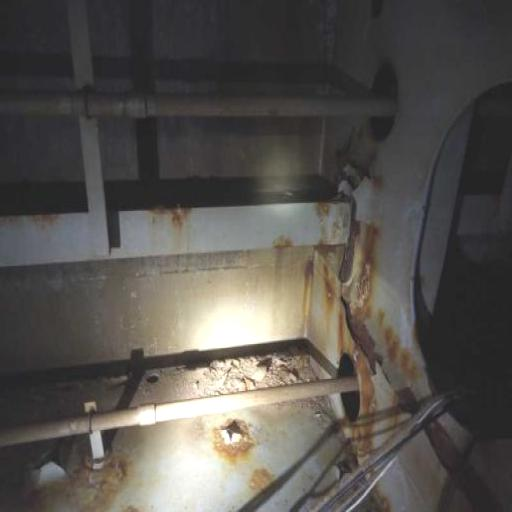Detect-rust-on-metal-surfaces: (256, 160, 428, 507), (1, 444, 135, 511), (200, 407, 263, 466), (19, 194, 70, 247), (142, 195, 206, 235), (245, 461, 274, 499)
